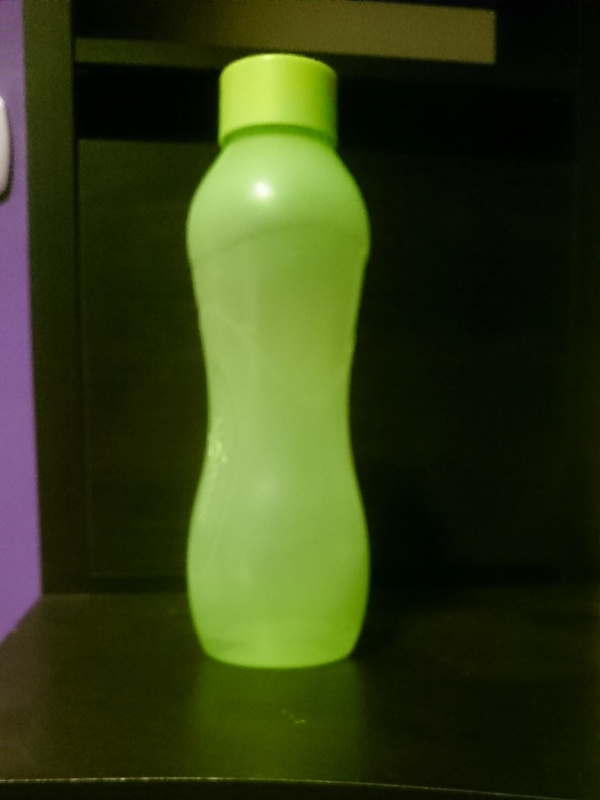my bottle: (185, 52, 370, 665)
